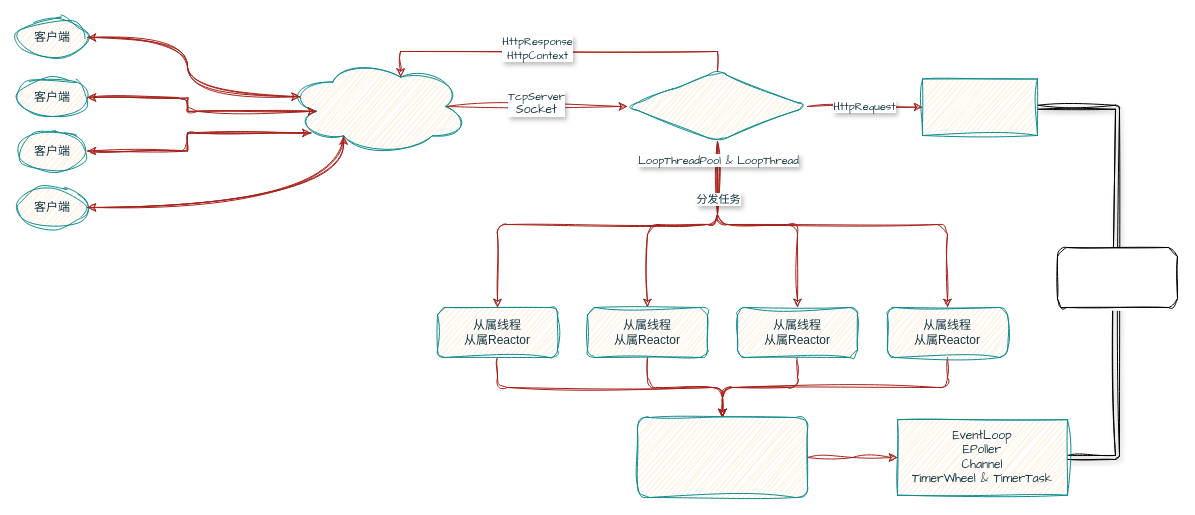
This 1195x515 diagram has some shape labels left out. Here are the shapes that lost their labels. From the top down, the centre of each, then its label:
At [377,106]: "服务器".
At [717,106]: "主线程 主Reactor -- 监听连接".
At [980,107]: "Acceptor Connection".
At [1117,277]: "Buffer Any NetWork".
At [722,457]: "对连接做管理： IO 事件(读/写/关闭/异常) 活跃时间(任意)".
